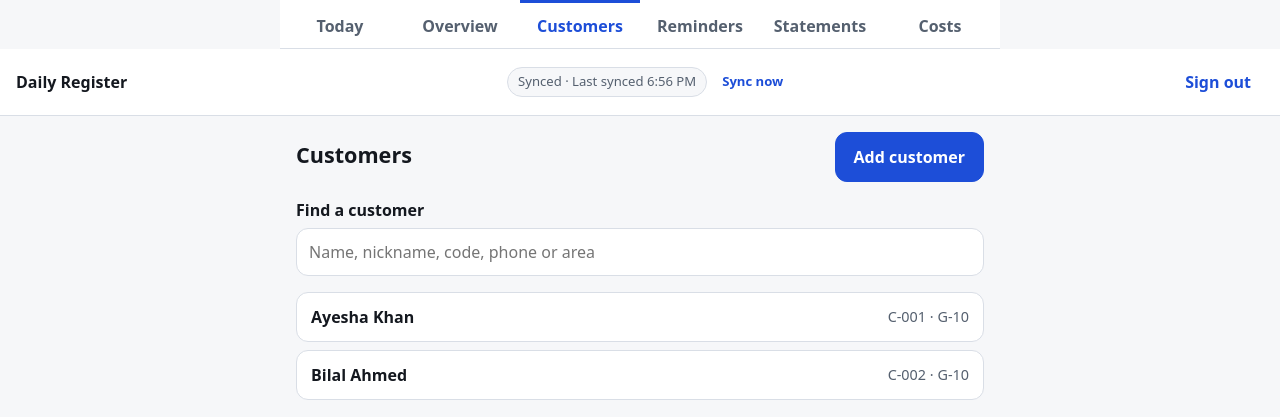
Test case: the customer list › hands the search box to the server rather than filtering what is loaded
Expected: the text "Ayesha Khan" is shown, x1=311 y1=305 x2=414 y2=329
Type "bilal" into the search field labelled "Find a customer" at (640, 252), box x1=296 y1=228 x2=984 y2=276
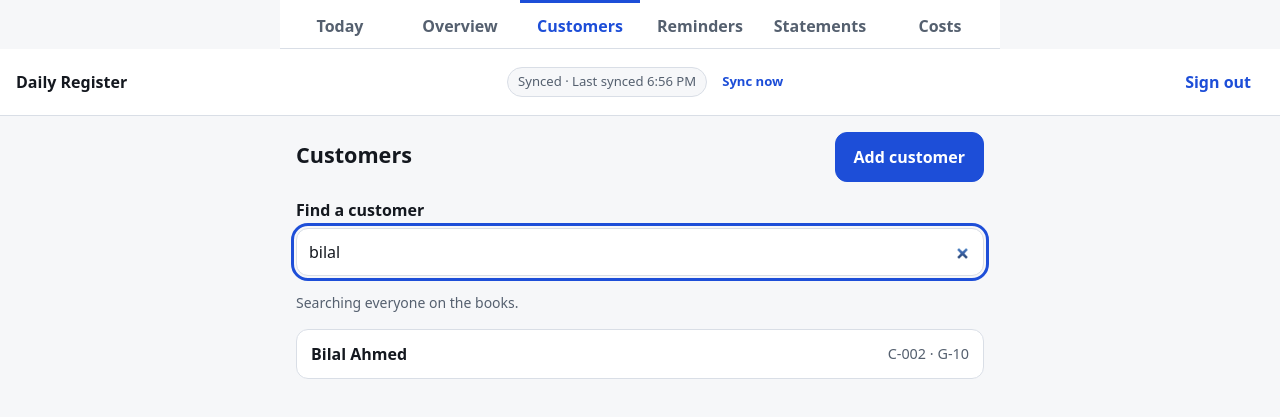
Expected: the text "Bilal Ahmed" is shown, x1=311 y1=342 x2=407 y2=366
Expected: the link "Ayesha Khan" is gone
